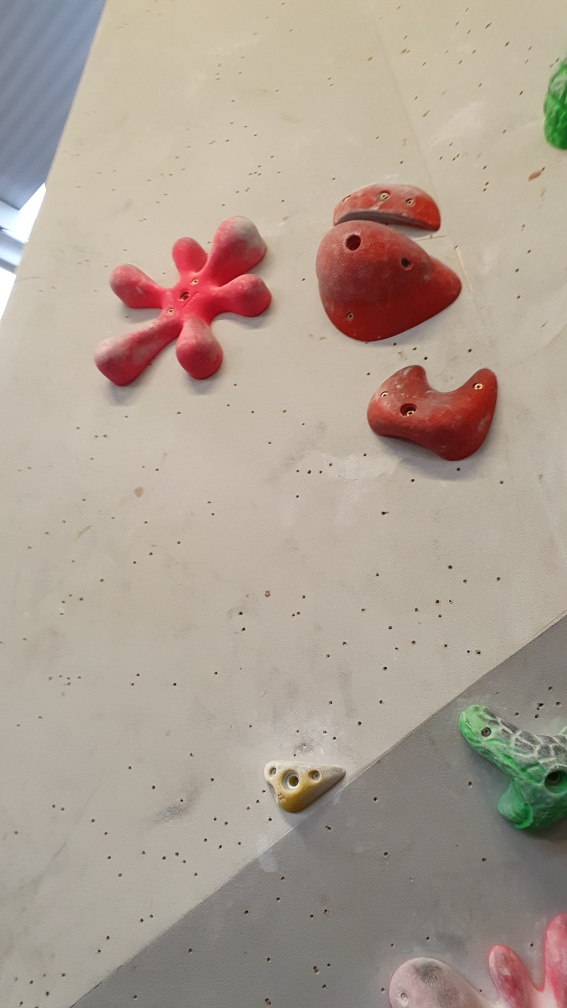Octopus Pinch: (95, 214, 276, 385)
